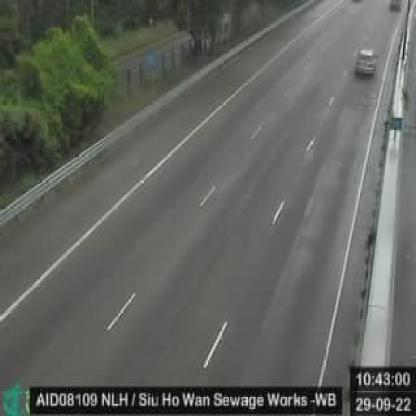Car: (352, 43, 378, 76)
